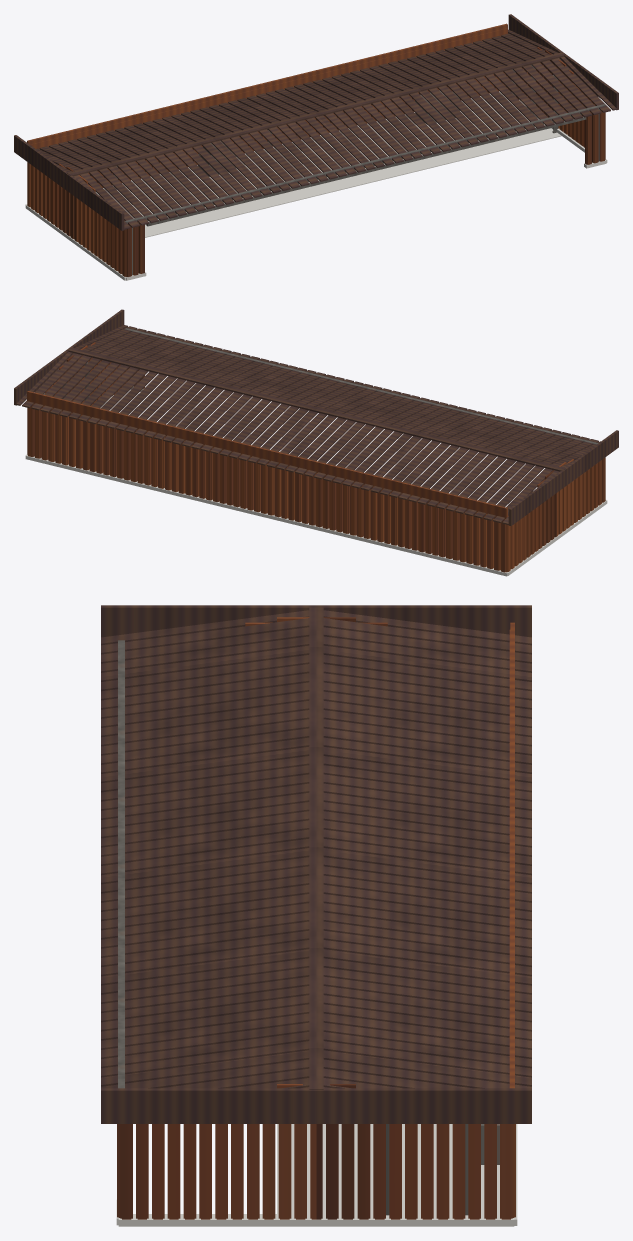
Rendered from ashpier-shed.glb.
3 renders of one model, top to bottom at view 1: azimuth 30°, elevation 25°; view 2: azimuth 150°, elevation 25°; view 3: azimuth 270°, elevation 25°, orthographic. The views are drawn at different scales.
Parts seen in each view (by area): view 1: AshpierShedRoof, AshpierShedWalls, AshpierShedPlinth, AshpierShedGable, AshpierShedSteel; view 2: AshpierShedRoof, AshpierShedWalls, AshpierShedGable, AshpierShedPlinth, AshpierShedSteel; view 3: AshpierShedRoof, AshpierShedWalls, AshpierShedPlinth, AshpierShedSteel, AshpierShedGable.
Part boxes in pixels (x1,y1,x2,y2): AshpierShedRoof: [14, 14, 618, 230]; AshpierShedWalls: [27, 41, 605, 276]; AshpierShedPlinth: [25, 91, 607, 280]; AshpierShedGable: [27, 23, 573, 191]; AshpierShedSteel: [113, 64, 605, 275]; AshpierShedRoof: [14, 309, 618, 525]; AshpierShedWalls: [27, 357, 605, 572]; AshpierShedGable: [27, 342, 573, 518]; AshpierShedPlinth: [25, 386, 607, 576]; AshpierShedSteel: [43, 328, 598, 444]; AshpierShedRoof: [101, 605, 531, 1123]; AshpierShedWalls: [117, 697, 515, 1219]; AshpierShedPlinth: [116, 1124, 517, 1226]; AshpierShedSteel: [118, 640, 499, 1215]; AshpierShedGable: [245, 617, 514, 1088].
Bounding box in the file's own units: 29.02 × 4.05 × 10.9.
Materials: 4 (3 with a texture image).
